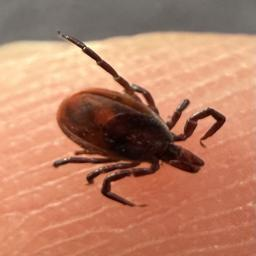Ixodes scapularis: (52, 30, 225, 208)
